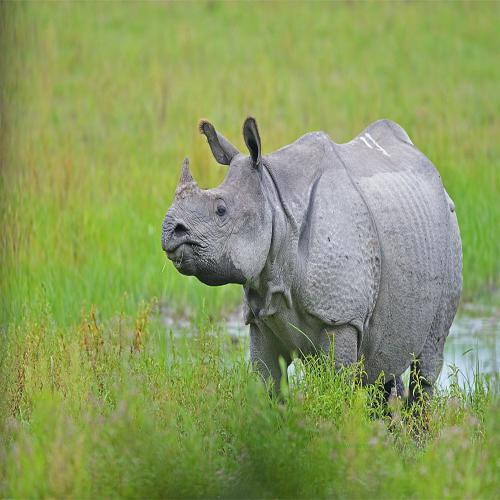rhino-endangered: (161, 108, 463, 438)
